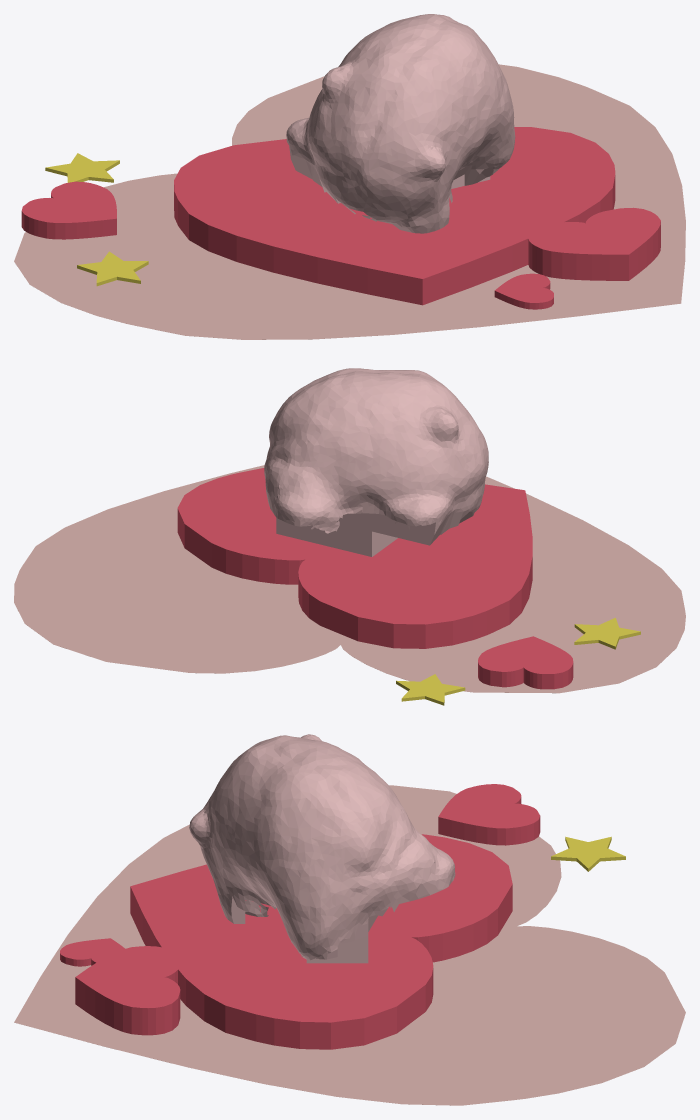
Rendered from frog-hearts.glb.
The picture shows the model from 3 angles, top to bottom: view 1: azimuth 30°, elevation 25°; view 2: azimuth 150°, elevation 25°; view 3: azimuth 270°, elevation 25°; orthographic projection. The views are drawn at different scales.
Parts seen in each view (by area): view 1: Mesh_Mesh_head_geo.001_lambert2SG.001; view 2: Mesh_Mesh_head_geo.001_lambert2SG.001; view 3: Mesh_Mesh_head_geo.001_lambert2SG.001.
Part boxes in pixels (bbox=[...]): Mesh_Mesh_head_geo.001_lambert2SG.001: bbox=[14, 14, 685, 339]; Mesh_Mesh_head_geo.001_lambert2SG.001: bbox=[14, 368, 685, 705]; Mesh_Mesh_head_geo.001_lambert2SG.001: bbox=[14, 734, 685, 1105].
Bounding box in the file's own units: 0.202 × 0.061 × 0.179.
